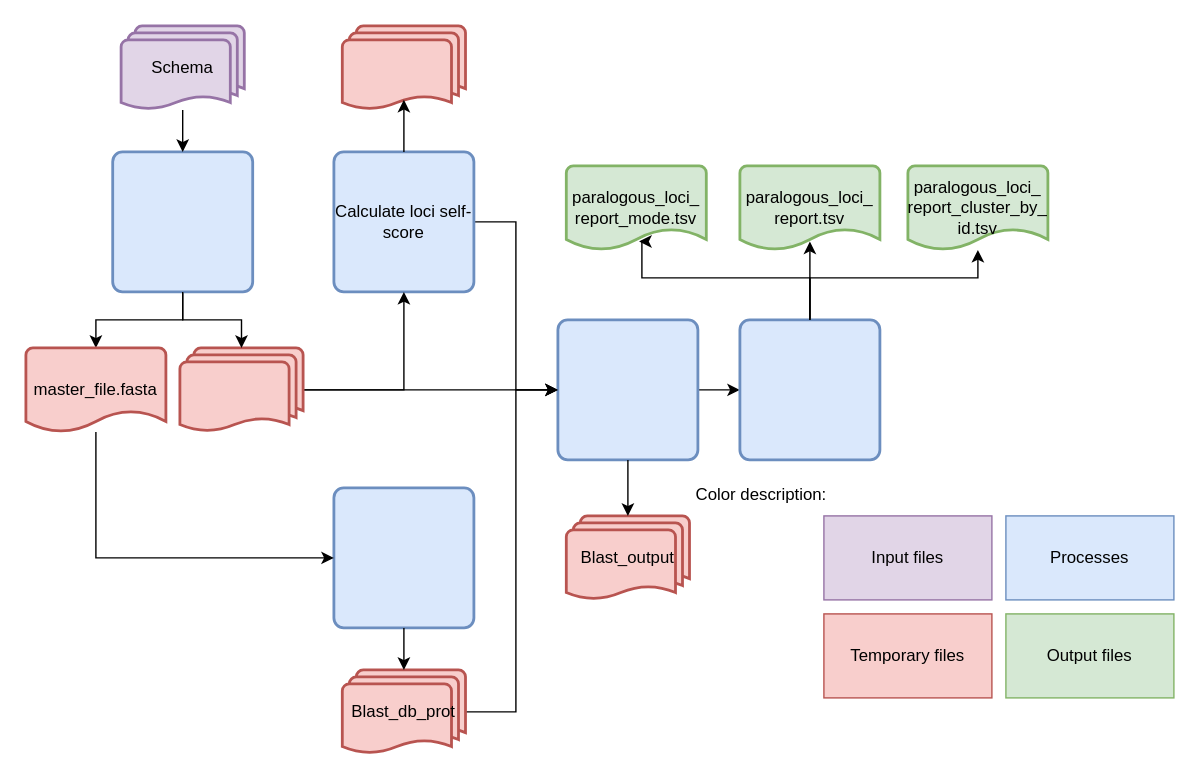
Image size: 1198x778. Some labels were removed from this diagram. Each missing label, with the box of its shape:
Create BLAST database: (332, 486, 475, 629)
Run BLASTp: (556, 318, 699, 461)
self-score- folder: (340, 24, 466, 111)
Translate Schema: (111, 150, 253, 293)
Translation: (178, 346, 304, 433)
Write results: (738, 318, 881, 461)
